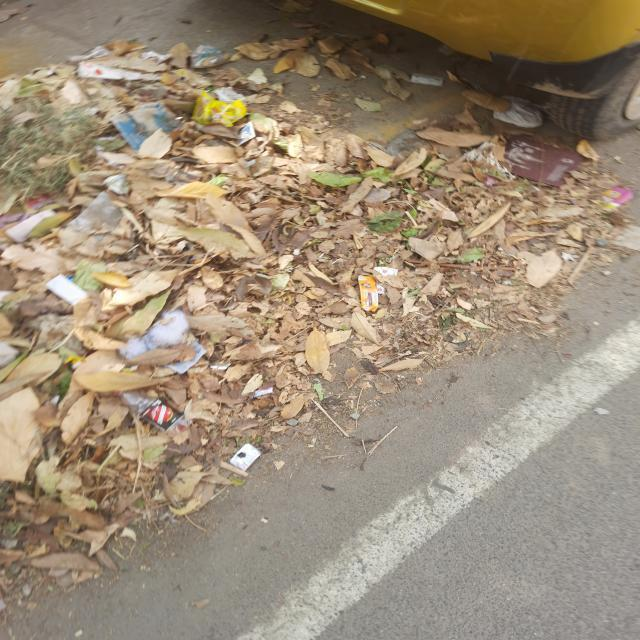Garbage: (0, 42, 627, 600)
Plastic: (120, 309, 190, 360)
Plastic_Bag: (58, 191, 123, 250), (110, 102, 177, 149), (73, 259, 107, 291), (190, 45, 230, 69), (207, 174, 228, 188)
Plastic_bottle: (115, 390, 192, 436)
Plastic_wraper: (192, 91, 247, 126), (23, 191, 70, 216), (358, 276, 378, 311), (602, 188, 633, 208), (238, 121, 255, 145), (253, 386, 273, 398), (210, 364, 230, 371), (102, 69, 103, 71)
Tetrapack: (78, 61, 142, 80), (165, 170, 200, 184), (373, 266, 398, 276), (377, 285, 387, 295), (217, 366, 218, 368)
